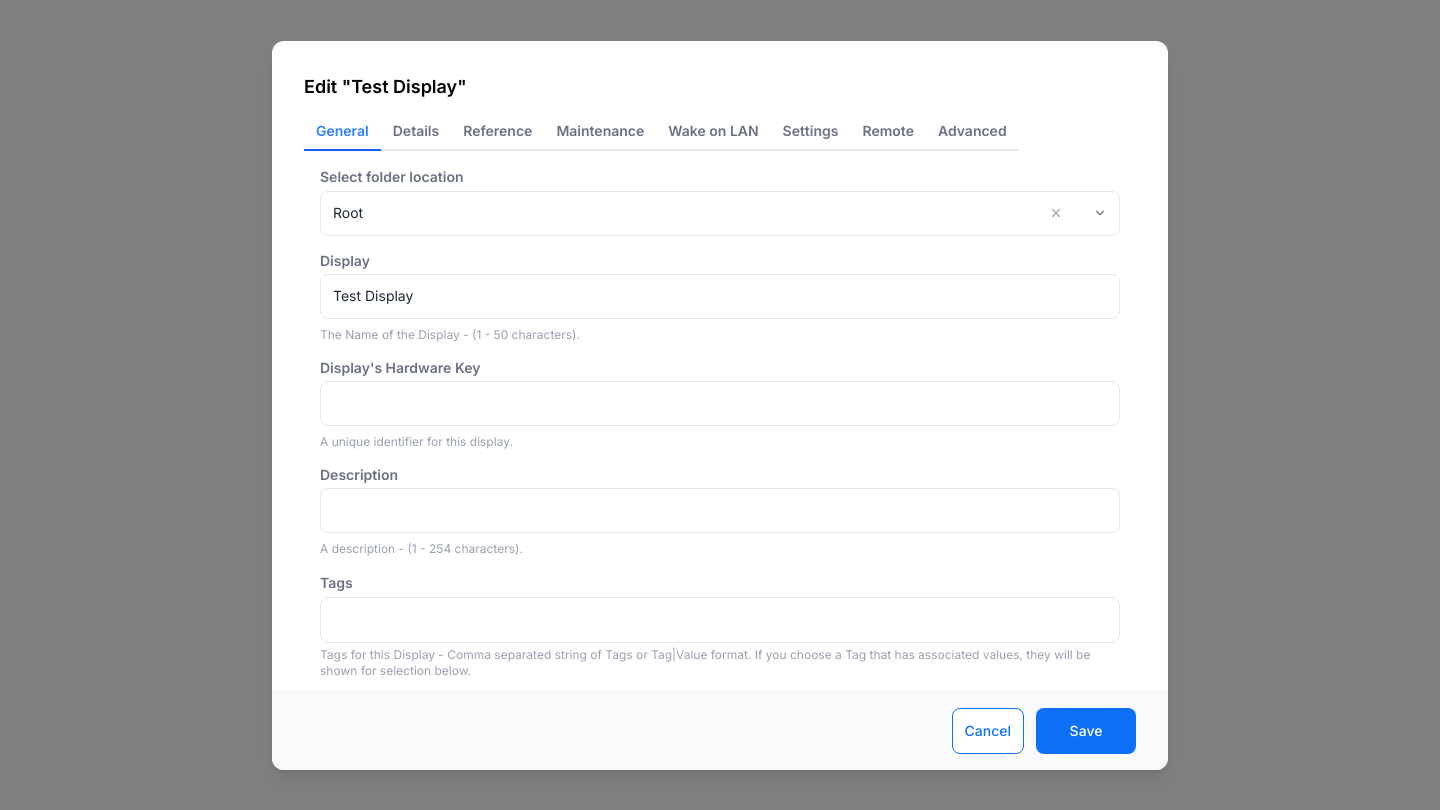
Scenario: Display - edit form fields › Failed save keeps the modal open and shows the error
Expected: the dialog is shown, [272,40,1168,770]
Step 1. Click the button "Save" → (1086, 730), box [1036,708,1136,754]
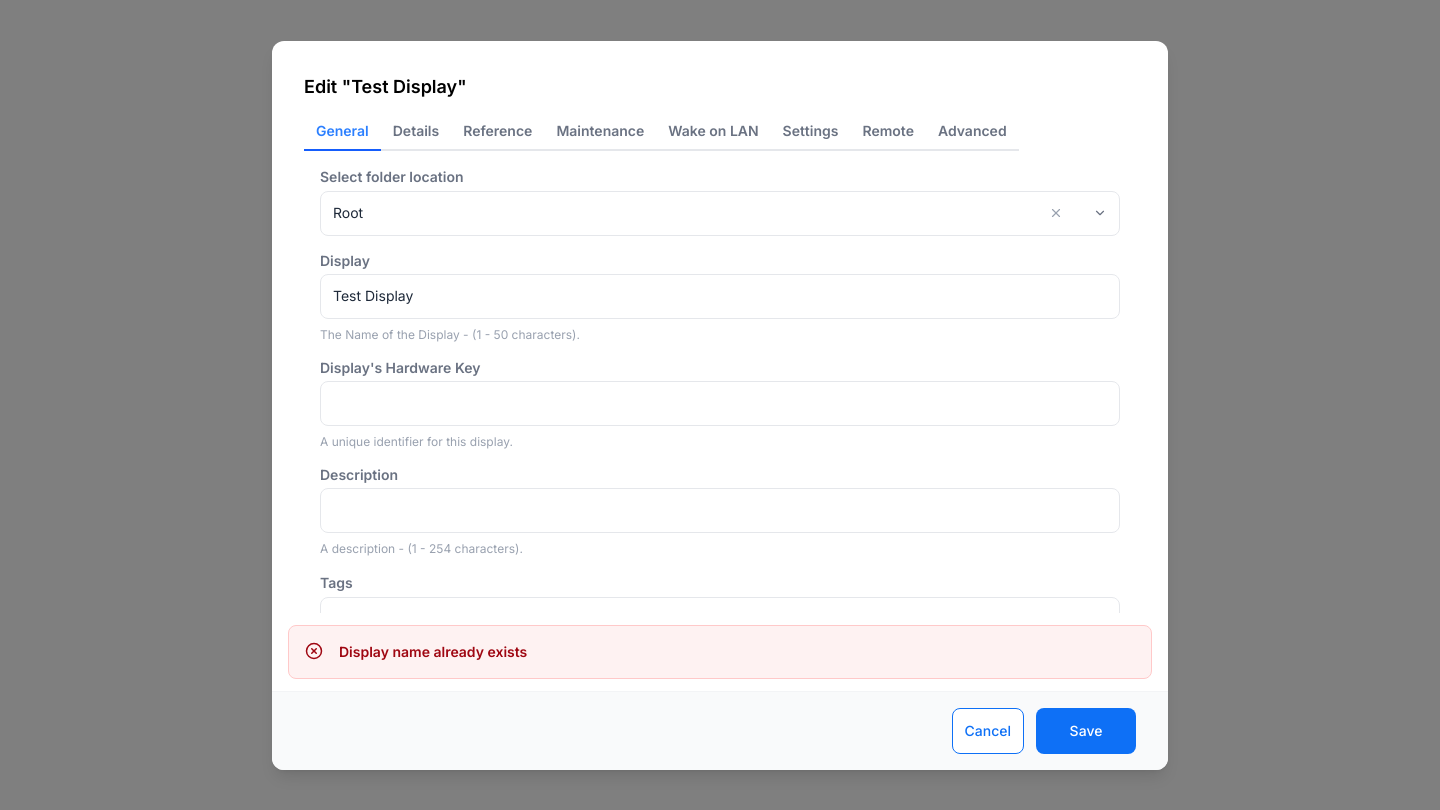
Expected: the dialog is shown, [272,40,1168,770]
Expected: the message reads "Display name already exists", [339,642,527,660]
